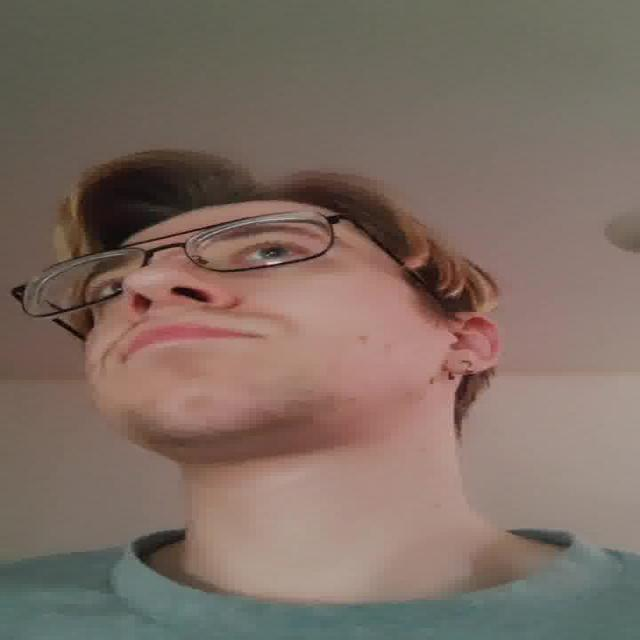earlobe: (444, 312, 506, 374)
